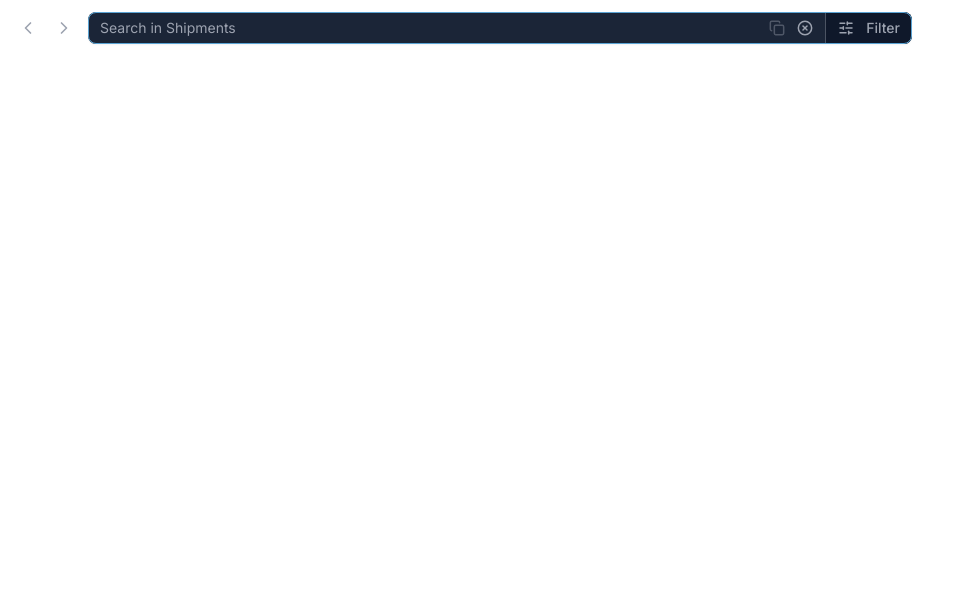
Test: ShipmentsGlobalSearch — All-tab commit no longer reopens the glimpse (S108 1e bonus fix) › committing an All-tab edit that ADDS a chip closes the panel and keeps it closed
Click the button with class "filter-button" at (869, 28), box left=825, top=12, right=912, bottom=44
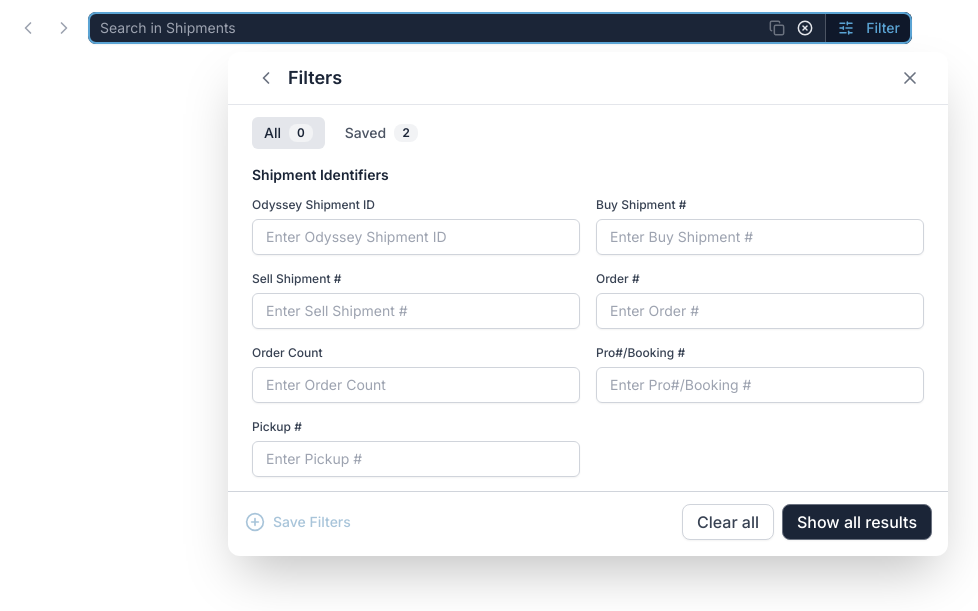
Type "0000000091000" into the field with placeholder "Enter Buy Shipment #" at (760, 237), box left=610, top=227, right=910, bottom=247
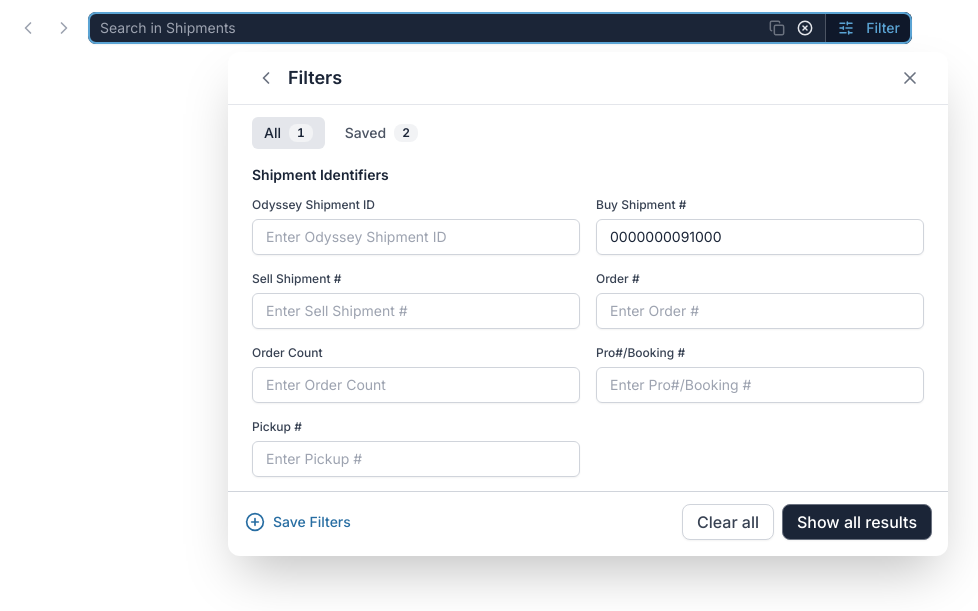
Click the button "Show all results" at (857, 522), box left=782, top=504, right=932, bottom=540
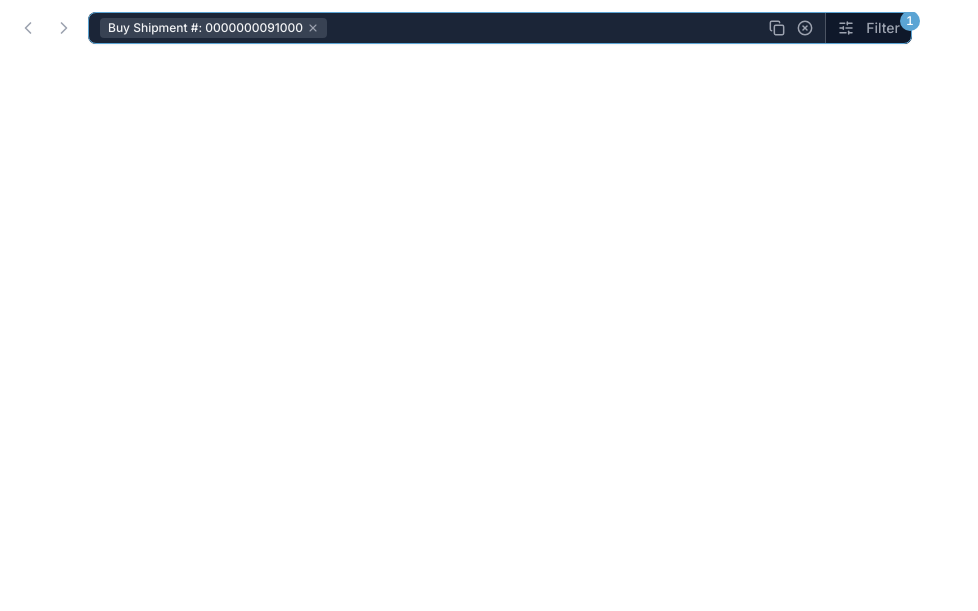
Check: the element with class "shipments-results-panel" is gone
